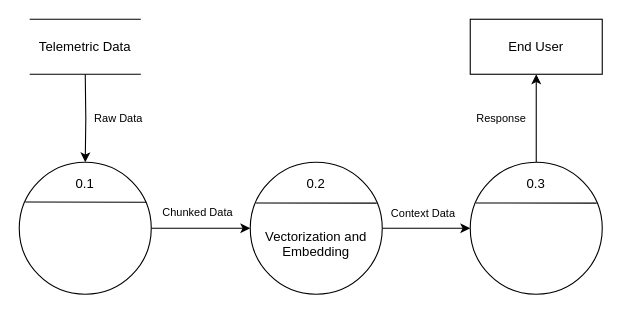
The diagram is 622 pixels wide and 314 high, and some of its shapes have lost their labels. The shapes that lost their labels are listed below. From the top down, each one's box as (x1, y1, x2, y2) in pixels, then its label:
(18, 161, 151, 294): Data Processing and Semantic Chunking Engine
(469, 161, 602, 294): Retrieval and Augmentation
